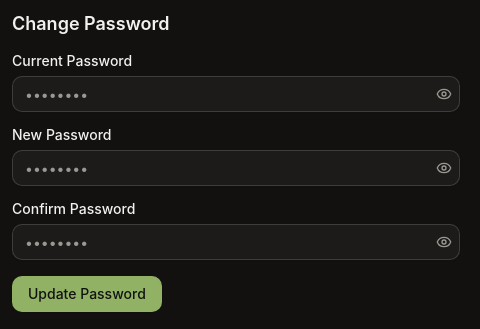
Test: ChangePassword › disables submit button while mutation is pending
In the password field with test id "current-password-input": (236, 94) [12,76,460,112], type "oldPassword123"
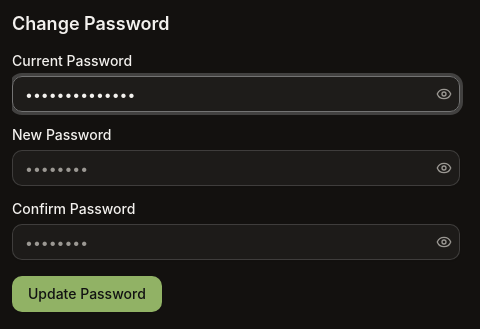
In the password field with test id "new-password-input": (236, 168) [12,150,460,186], type "newPassword456"
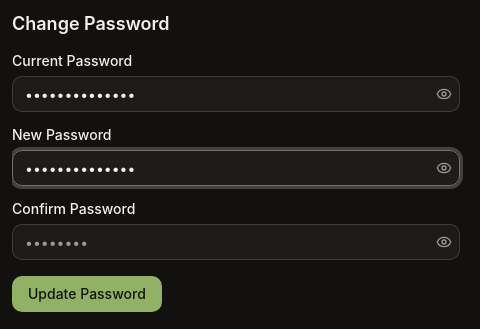
In the password field with test id "confirm-password-input": (236, 242) [12,224,460,260], type "newPassword456"
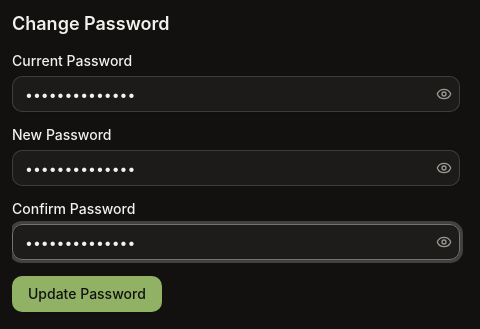
Click the button "Update Password": (87, 294) [12,276,162,312]
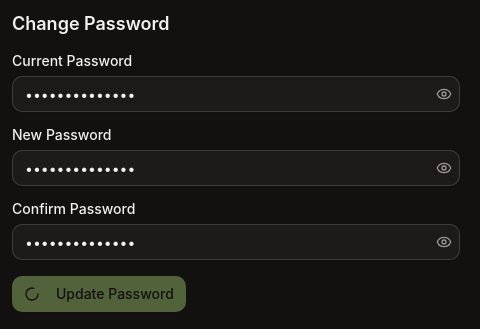
expect the button "Update Password" is disabled: met, box [12,276,186,312]
